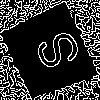S: (24, 27, 83, 78)
